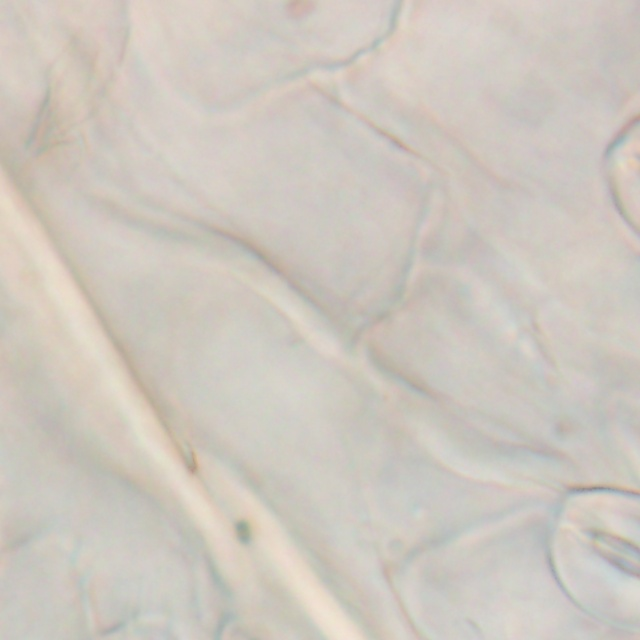center: (563, 552, 626, 566), (596, 174, 640, 179)
stomata-huw1: (550, 488, 639, 630), (605, 118, 639, 235)
